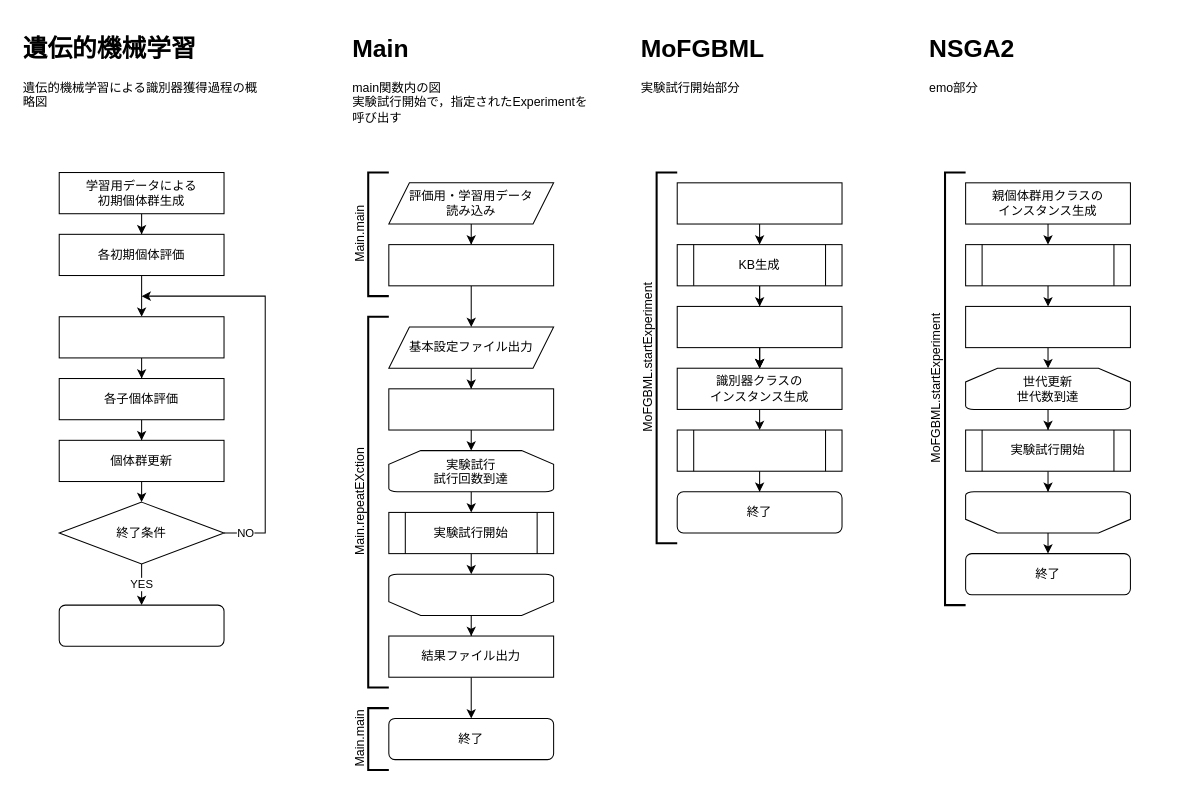
Image size: 1189x788. Some labels were removed from this diagram. The shapes that lost their labels are listed below. From the top down, each one's centre as x and y in pixels, then its label:
the point at 759,203: 学習用・評価用データクラス のインスタンス生成
the point at 471,265: 環境設定
the point at 1047,265: 初期個体群生成
the point at 141,337: 子個体群生成
the point at 759,326: 問題設定オブジェクト (MOP)生成
the point at 1047,326: 初期個体群評価
the point at 471,409: 結果出力用ファイル生成
the point at 759,450: emo指定し実行
the point at 1047,512: 世代更新
the point at 471,594: 実験試行
the point at 141,625: 識別器獲得
